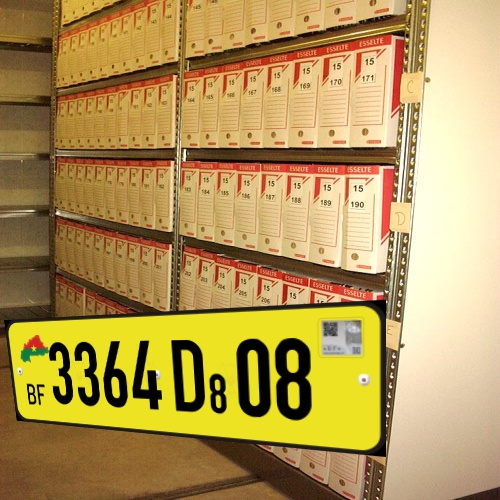plate: (4, 304, 403, 472)
